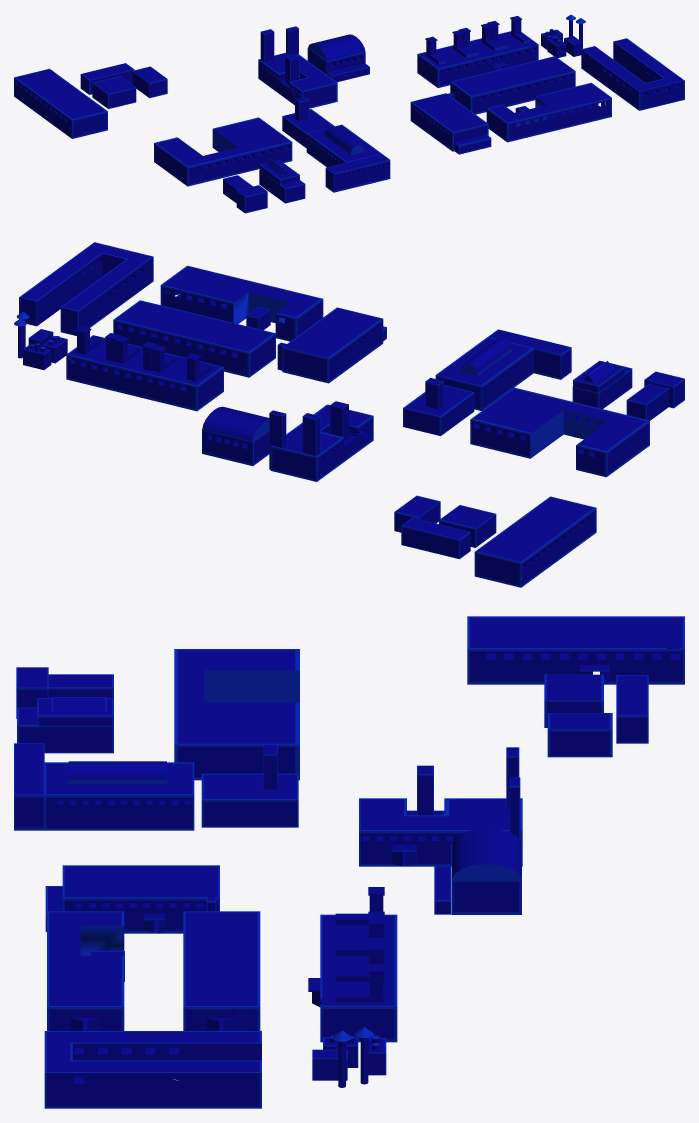
File: city.obj
The picture shows the model from 3 angles, top to bottom: view 1: azimuth 30°, elevation 25°; view 2: azimuth 150°, elevation 25°; view 3: azimuth 270°, elevation 25°; orthographic projection. The views are drawn at different scales.
Parts seen in each view (by area): view 1: 厂房四_13, 立方体_1, 厂房一_14, 厂房一_13, 厂房三, 1, 厂房一_2, 厂房二_6, 厂房四_7, 厂房四_26, 厂房三_11, 厂房二 (+16 smaller); view 2: 厂房四_13, 立方体_1, 厂房一_13, 厂房三, 1, 厂房一_14, 厂房一_2, 厂房二_6, 厂房四_26, 厂房四_5, 厂房三_13, 厂房四_7 (+16 smaller); view 3: 立方体_1, 厂房三, 厂房四_13, 厂房一_13, 厂房一_2, 厂房一_14, 厂房四_26, 厂房二_6, 1, 厂房四_5, 厂房二, 厂房四_25 (+15 smaller).
Boxes of the visible parts, x1,y1,x2,y2 form: 厂房四_13: [154, 117, 292, 186]; 立方体_1: [581, 38, 684, 110]; 厂房一_14: [486, 82, 611, 142]; 厂房一_13: [450, 56, 575, 114]; 厂房三: [14, 68, 107, 138]; 1: [417, 31, 538, 87]; 厂房一_2: [410, 93, 488, 151]; 厂房二_6: [258, 52, 337, 108]; 厂房四_7: [325, 154, 390, 192]; 厂房四_26: [306, 124, 381, 167]; 厂房三_11: [92, 76, 136, 108]; 厂房二: [308, 34, 365, 60]; 厂房四_13: [470, 387, 649, 477]; 立方体_1: [19, 242, 153, 335]; 厂房一_13: [113, 300, 275, 377]; 厂房三: [474, 496, 596, 587]; 1: [66, 335, 223, 411]; 厂房一_14: [160, 265, 323, 341]; 厂房一_2: [282, 307, 383, 383]; 厂房二_6: [270, 404, 373, 481]; 厂房四_26: [435, 337, 533, 410]; 厂房四_5: [403, 385, 474, 435]; 厂房三_13: [401, 518, 470, 559]; 厂房四_7: [488, 329, 571, 379]; 立方体_1: [44, 1031, 261, 1108]; 厂房三: [467, 616, 684, 684]; 厂房四_13: [174, 649, 299, 780]; 厂房一_13: [183, 911, 260, 1030]; 厂房一_2: [62, 865, 219, 933]; 厂房一_14: [47, 911, 124, 1030]; 厂房四_26: [44, 762, 194, 830]; 厂房二_6: [359, 798, 522, 866]; 1: [308, 914, 397, 1042]; 厂房四_5: [201, 773, 298, 827]; 厂房二: [452, 829, 521, 879]; 厂房四_25: [204, 670, 299, 702].
Bounding box in the file's own units: 2190 × 201 × 1361.
